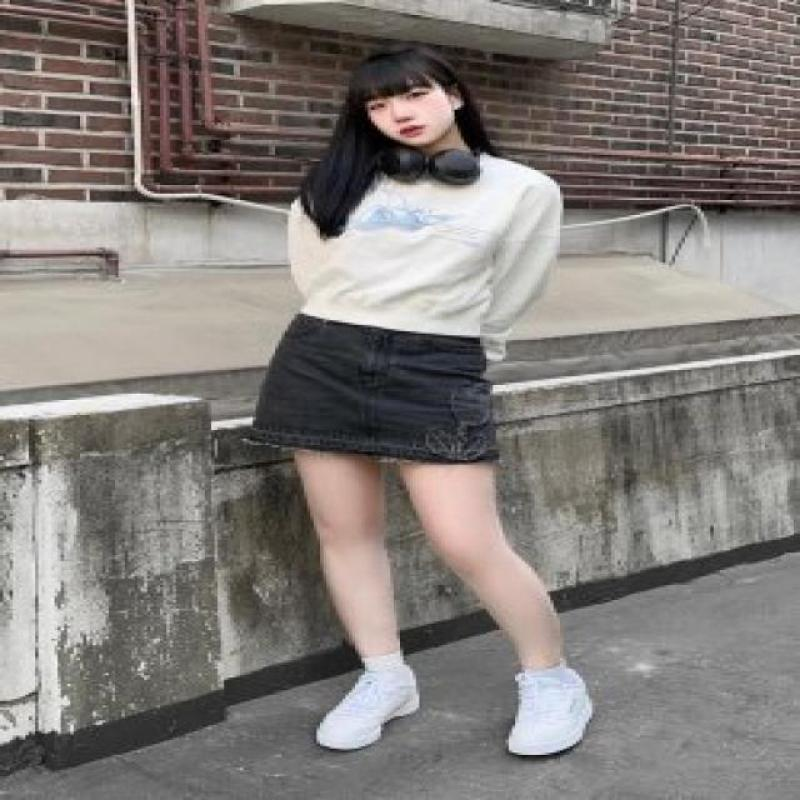skirt: (247, 312, 502, 464)
sweater: (285, 147, 564, 365)
